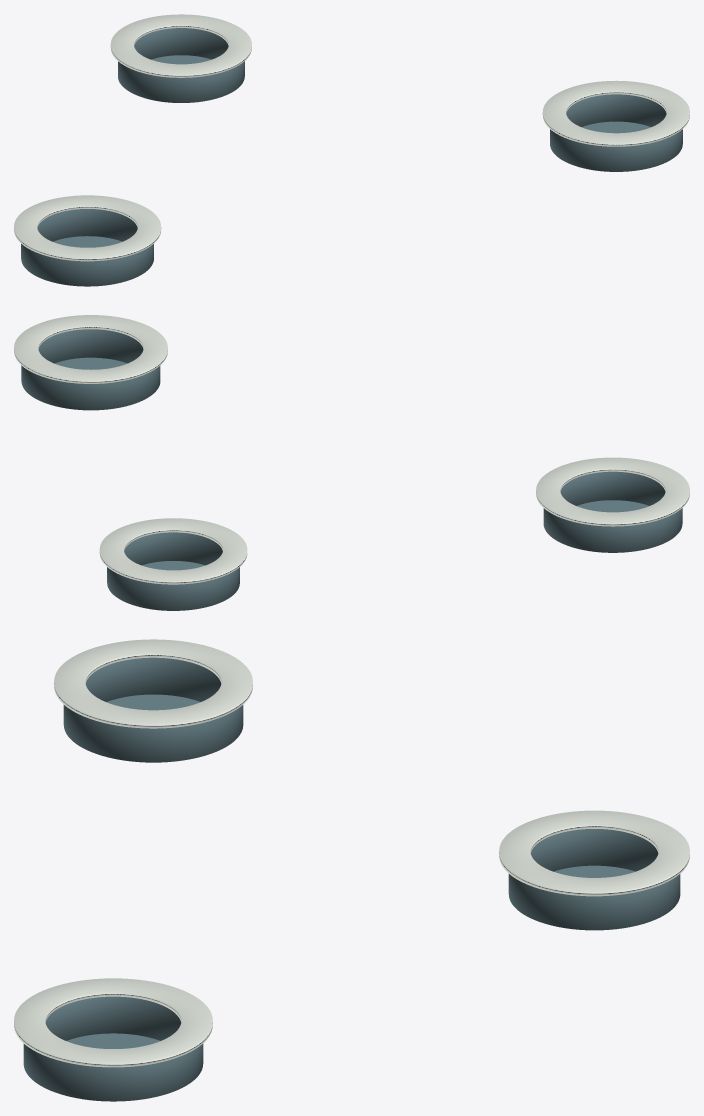
Rendered from g01-satellite-basins.glb.
3 views of the same model, one above another, from view 1: azimuth 30°, elevation 25°; view 2: azimuth 150°, elevation 25°; view 3: azimuth 270°, elevation 25° (orthographic). The views are drawn at different scales.
Visible parts, largest first — view 1: shell-material-6-0, shell-material-2-0; view 2: shell-material-6-0, shell-material-2-0; view 3: shell-material-6-0, shell-material-2-0.
Boxes of the visible parts, <box> form: shell-material-6-0: <box>21,28,682,286</box>; shell-material-2-0: <box>14,14,689,261</box>; shell-material-6-0: <box>21,329,682,610</box>; shell-material-2-0: <box>14,315,689,584</box>; shell-material-6-0: <box>23,657,680,1101</box>; shell-material-2-0: <box>14,639,689,1067</box>.
Size of the model in its own units: 24.96 by 1.2 by 16.86.
